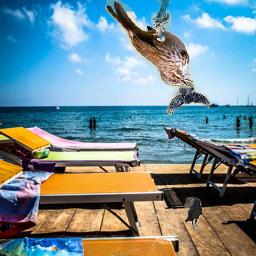Crow: (166, 81, 210, 115), (184, 198, 202, 231)
Sparrow: (106, 0, 195, 88)
